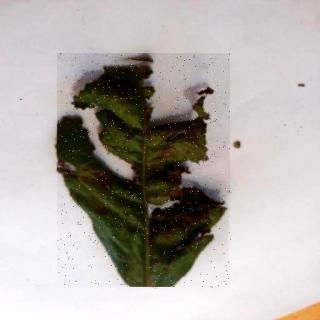Algal Leaf: (59, 55, 233, 290)
